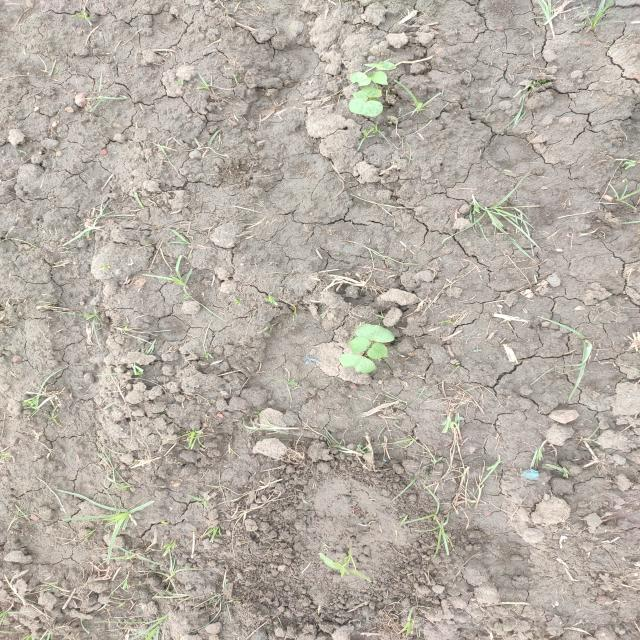seedling_s4: (318, 553, 349, 577), (355, 323, 394, 342), (339, 353, 376, 373), (349, 98, 384, 117), (349, 337, 371, 354), (367, 343, 388, 359), (364, 61, 396, 70), (350, 72, 370, 86), (369, 71, 388, 85), (362, 87, 382, 97), (352, 91, 368, 101)
